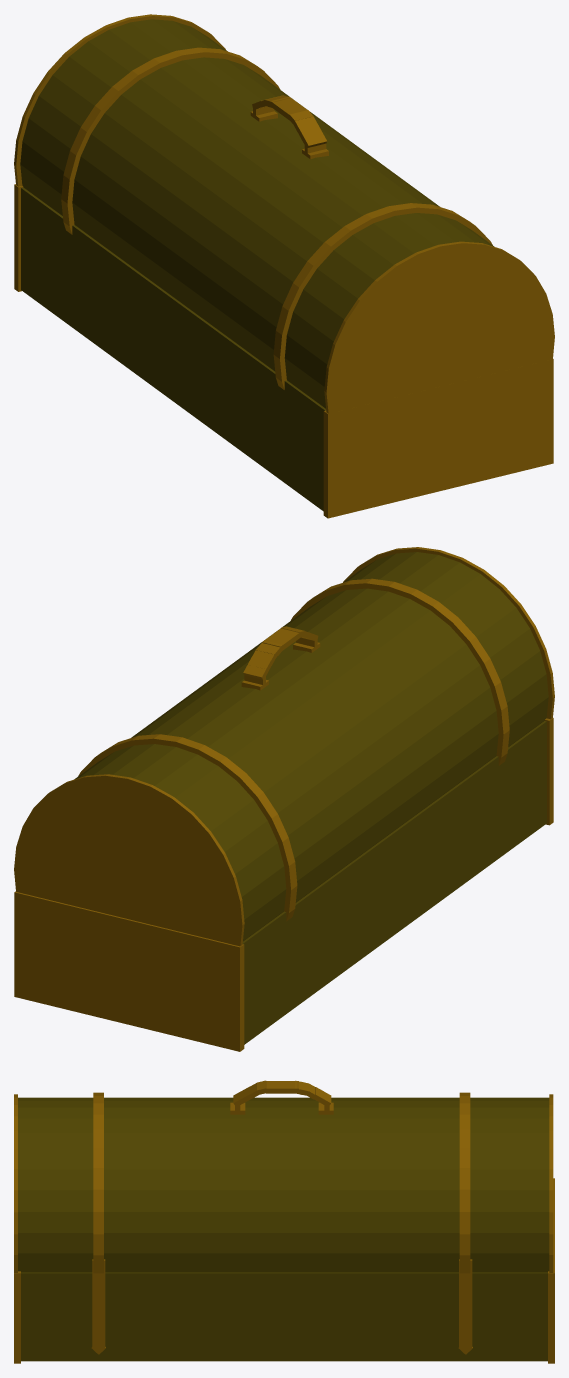
File: BigLuggage.fbx
3 renders of one model, top to bottom at view 1: azimuth 30°, elevation 25°; view 2: azimuth 150°, elevation 25°; view 3: azimuth 270°, elevation 25°, orthographic. The views are drawn at different scales.
Visible parts, largest first — view 1: Cylinder, Cube, Cylinder.003, Cube.003, Cylinder.002, Cylinder.001, Cylinder.004, Cube.004; view 2: Cylinder, Cube, Cylinder.004, Cube.004, Cylinder.001, Cylinder.002, Cylinder.003, Cube.003; view 3: Cylinder, Cube, Cylinder.002, Cylinder.001, Cube.001, Cube.002, Cylinder.004, Cube.004, Cylinder.003, Cube.003, Cube.021.
Part boxes in pixels (x1,y1,x2,y2): Cylinder: [20, 19, 494, 408]; Cube: [21, 187, 326, 511]; Cylinder.003: [324, 241, 554, 413]; Cube.003: [323, 359, 553, 518]; Cylinder.002: [61, 47, 280, 234]; Cylinder.001: [273, 203, 492, 389]; Cylinder.004: [14, 14, 225, 186]; Cube.004: [14, 184, 23, 291]; Cylinder: [74, 552, 548, 941]; Cube: [242, 721, 546, 1044]; Cylinder.004: [14, 774, 244, 946]; Cube.004: [14, 891, 244, 1051]; Cylinder.001: [290, 578, 509, 765]; Cylinder.002: [78, 734, 297, 921]; Cylinder.003: [343, 547, 554, 719]; Cube.003: [544, 718, 553, 825]; Cylinder: [18, 1097, 549, 1272]; Cube: [21, 1272, 547, 1361]; Cylinder.002: [459, 1092, 470, 1273]; Cylinder.001: [93, 1092, 103, 1273]; Cube.001: [92, 1259, 105, 1348]; Cube.002: [459, 1259, 472, 1348]; Cylinder.004: [549, 1094, 553, 1272]; Cube.004: [548, 1178, 554, 1363]; Cylinder.003: [14, 1094, 17, 1272]; Cube.003: [14, 1271, 20, 1363]; Cube.021: [266, 1081, 298, 1093].
Size of the model in its own units: 183 by 205 by 431.
